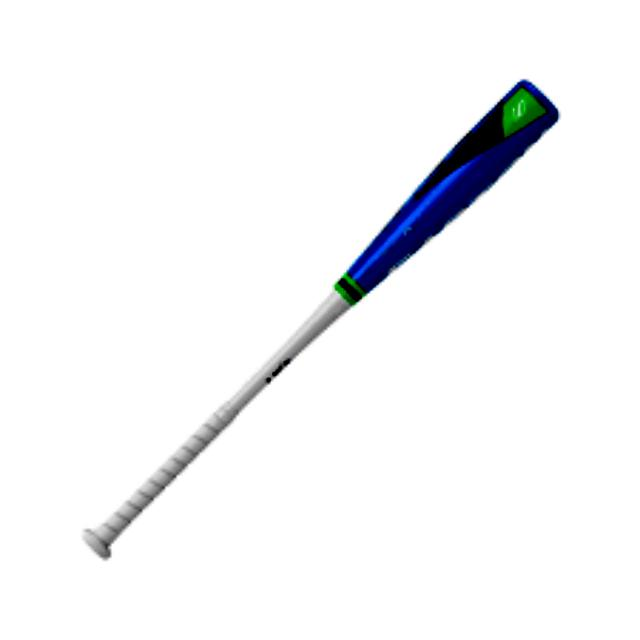baseball bat: (86, 69, 568, 565)
